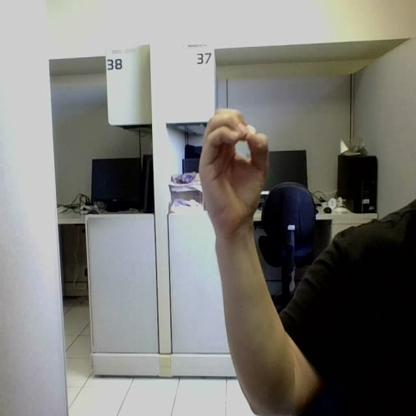O: (200, 108, 270, 223)
